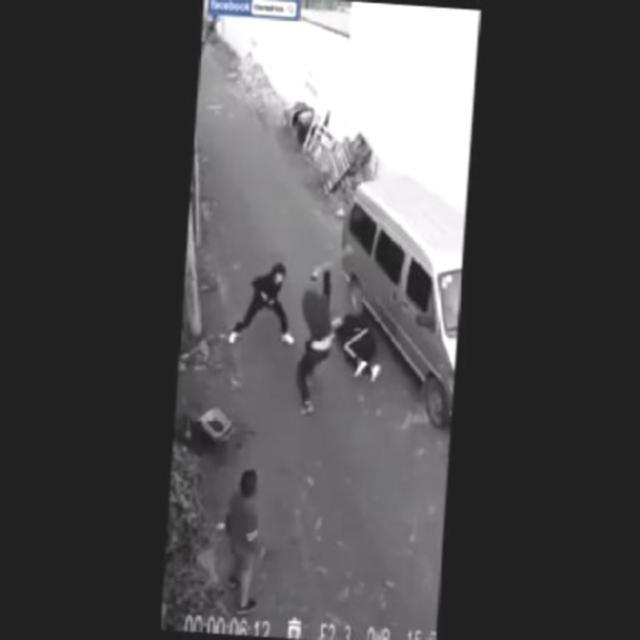fight: (229, 228, 354, 422)
non-fight: (215, 457, 283, 611)
